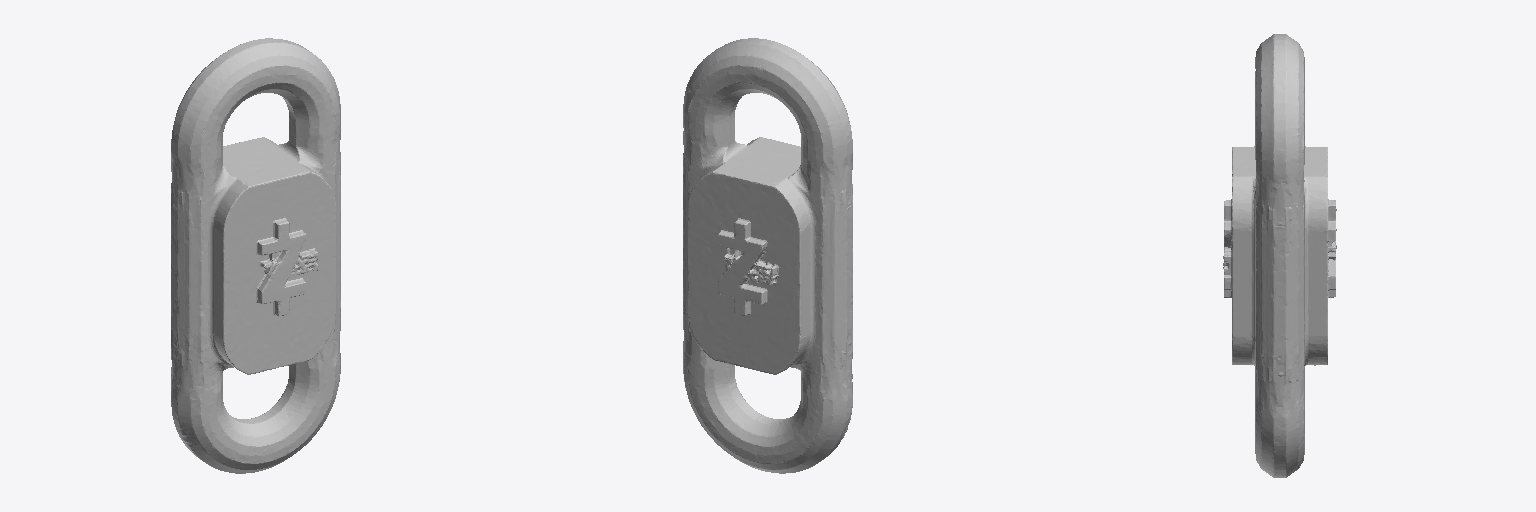
Rendered from chain.obj.
3 views of the same model, side by side, from view 1: azimuth 30°, elevation 25°; view 2: azimuth 150°, elevation 25°; view 3: azimuth 270°, elevation 25° (orthographic).
Parts seen in each view (by area): view 1: chain_blue_b_png_[number redacted]_texture; view 2: chain_blue_b_png_[number redacted]_texture; view 3: chain_blue_b_png_[number redacted]_texture.
Part boxes in pixels (x1,y1,x2,y2): chain_blue_b_png_[number redacted]_texture: (171,38,340,473); chain_blue_b_png_[number redacted]_texture: (683,38,852,473); chain_blue_b_png_[number redacted]_texture: (1223,34,1336,477).
Bounding box in the file's own units: 0.4015 × 1 × 0.2403.